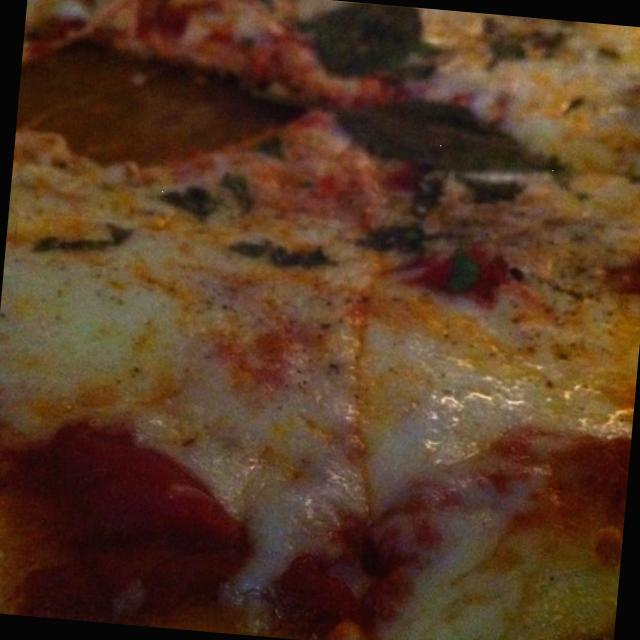basil: (314, 72, 570, 210), (293, 1, 454, 92), (156, 164, 252, 238), (14, 212, 138, 268), (222, 228, 328, 284), (336, 218, 440, 269), (433, 243, 489, 311)
pizza: (0, 0, 640, 640)
